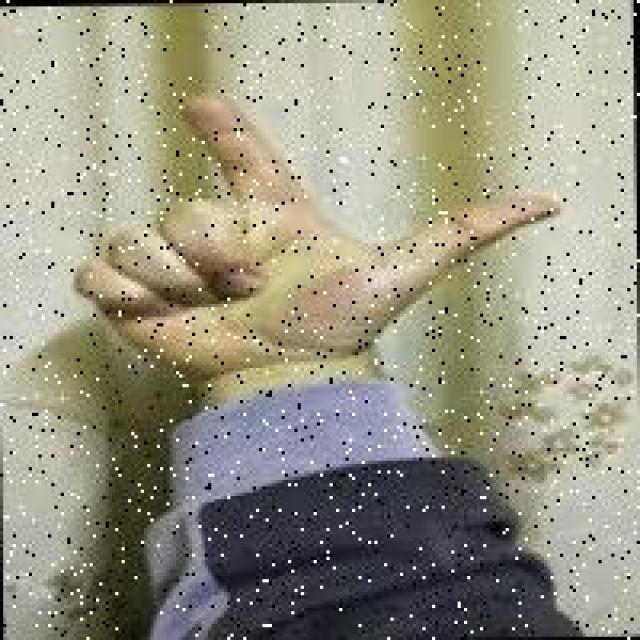L: (88, 88, 581, 414)
